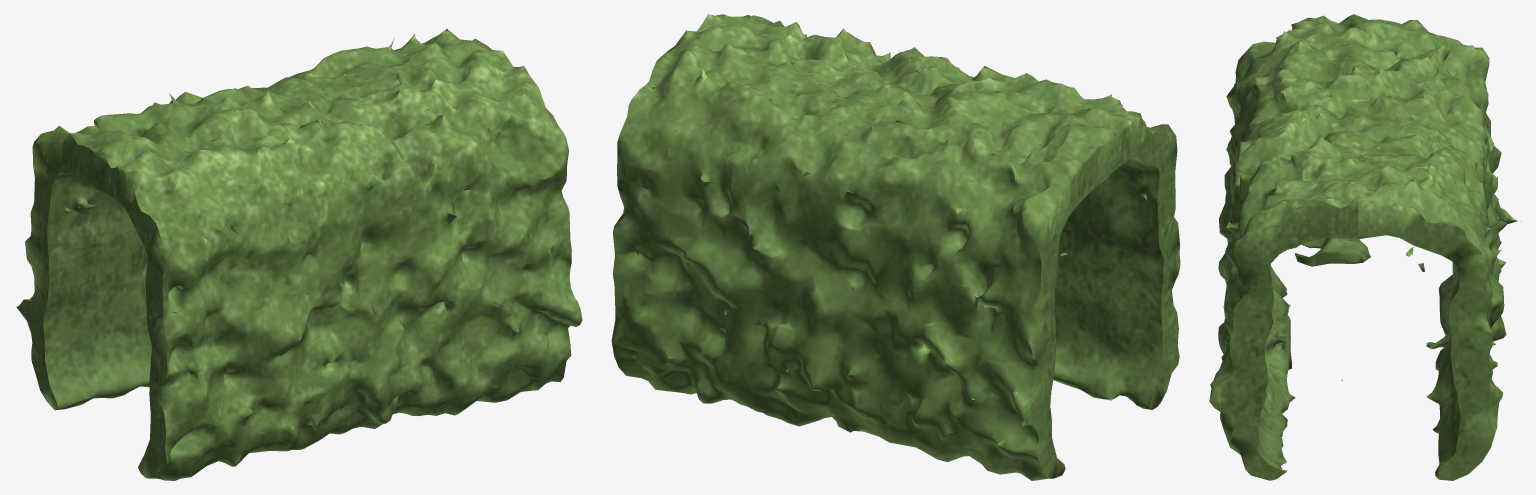
The model's file is HedgeSegment.glb.
The picture shows the model from 3 angles, left to right: view 1: azimuth 30°, elevation 25°; view 2: azimuth 150°, elevation 25°; view 3: azimuth 270°, elevation 25°; orthographic projection. The views are drawn at different scales.
Visible parts, largest first — view 1: HedgeSegment; view 2: HedgeSegment; view 3: HedgeSegment.
Boxes of the visible parts, bbox=[...] form: HedgeSegment: bbox=[16, 28, 582, 480]; HedgeSegment: bbox=[611, 14, 1180, 480]; HedgeSegment: bbox=[1209, 14, 1521, 480].
Size of the model in its own units: 1.45 by 1.1 by 1.03.
1 material, 1 textured.
